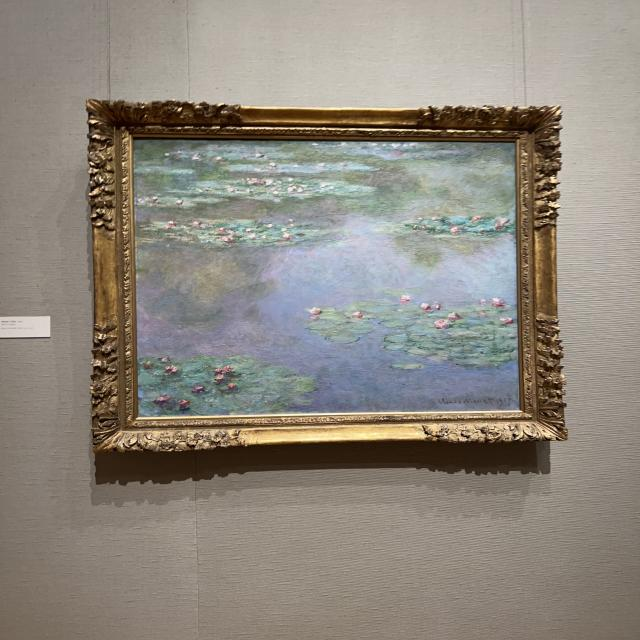lilies: (138, 143, 516, 413)
